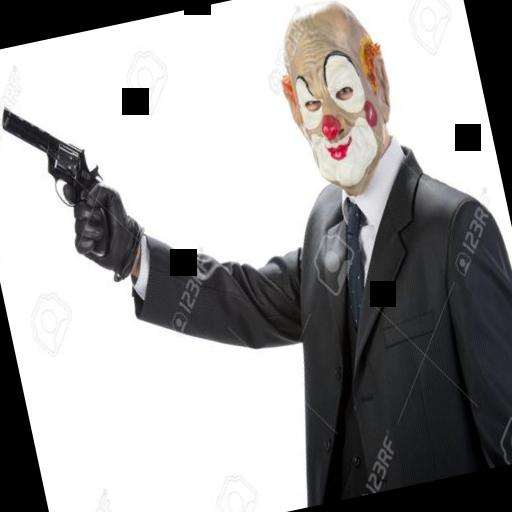Handgun: (0, 89, 120, 275)
